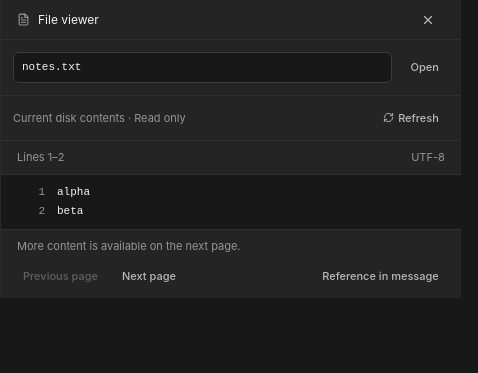
Test: FilePanel › keeps an earlier page separate when the file changes and refreshes from the beginning
This screenshot has width=478, height=373.
Expected: the text "alpha" is shown, top-left (57, 186), bottom-right (90, 198)
Click the button "Next page" at [149, 276], box top-left (112, 262), bottom-right (186, 290)
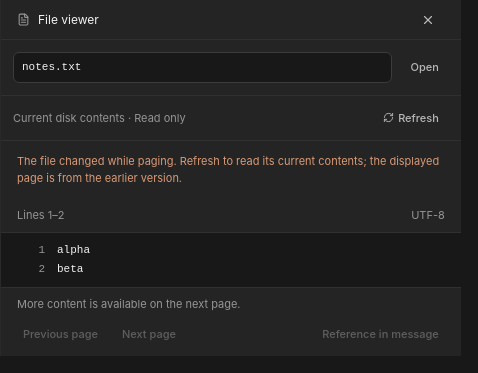
Expected: the message shows "file changed while paging", top-left (17, 154), bottom-right (439, 185)
Expected: the button "Next page" is disabled, top-left (112, 320), bottom-right (186, 348)
Expected: the button "Reference in message" is disabled, top-left (312, 320), bottom-right (449, 348)
Click the button "Refresh" at [411, 118], box top-left (373, 104), bottom-right (449, 132)
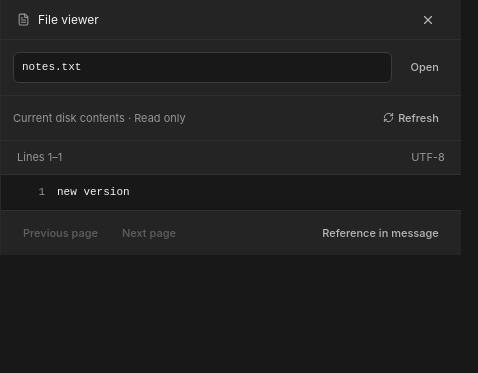
Expected: the text "new version" is shown, top-left (57, 186), bottom-right (130, 198)
Expected: the text "alpha" is gone
